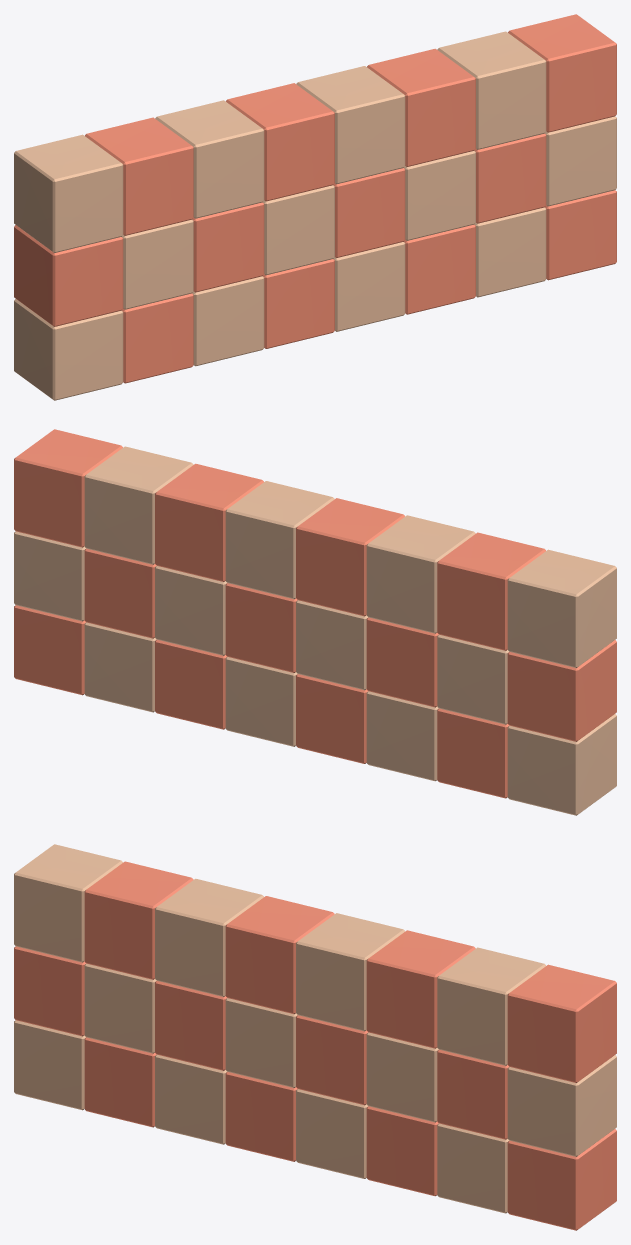
File: breakwall.fbx
3 views of the same model, one above another, from view 1: azimuth 30°, elevation 25°; view 2: azimuth 150°, elevation 25°; view 3: azimuth 330°, elevation 25° (orthographic).
Parts seen in each view (by area): view 1: break_wall, break_wall.008, break_wall.016, break_wall.002, break_wall.004, break_wall.007, break_wall.001, break_wall.003, break_wall.006, break_wall.005, break_wall.010, break_wall.018 (+12 smaller); view 2: break_wall, break_wall.008, break_wall.016, break_wall.002, break_wall.004, break_wall.007, break_wall.001, break_wall.003, break_wall.006, break_wall.005, break_wall.010, break_wall.018 (+12 smaller); view 3: break_wall.007, break_wall.015, break_wall.023, break_wall.005, break_wall, break_wall.003, break_wall.006, break_wall.001, break_wall.004, break_wall.002, break_wall.013, break_wall.021 (+12 smaller).
Part boxes in pixels (x1=…): break_wall: x1=14, y1=134, x2=123, y2=252; break_wall.008: x1=14, y1=225, x2=123, y2=326; break_wall.016: x1=14, y1=299, x2=123, y2=400; break_wall.002: x1=155, y1=100, x2=264, y2=218; break_wall.004: x1=296, y1=66, x2=405, y2=184; break_wall.007: x1=508, y1=14, x2=616, y2=132; break_wall.001: x1=85, y1=117, x2=193, y2=235; break_wall.003: x1=226, y1=83, x2=334, y2=201; break_wall.006: x1=437, y1=31, x2=546, y2=149; break_wall.005: x1=367, y1=48, x2=475, y2=166; break_wall.010: x1=192, y1=202, x2=264, y2=292; break_wall.018: x1=192, y1=276, x2=264, y2=366; break_wall: x1=507, y1=549, x2=616, y2=667; break_wall.008: x1=507, y1=640, x2=616, y2=741; break_wall.016: x1=507, y1=714, x2=616, y2=815; break_wall.002: x1=366, y1=515, x2=475, y2=633; break_wall.004: x1=225, y1=481, x2=334, y2=599; break_wall.007: x1=14, y1=429, x2=122, y2=547; break_wall.001: x1=437, y1=532, x2=545, y2=650; break_wall.003: x1=296, y1=498, x2=404, y2=616; break_wall.006: x1=84, y1=446, x2=193, y2=564; break_wall.005: x1=155, y1=463, x2=263, y2=581; break_wall.010: x1=366, y1=617, x2=438, y2=707; break_wall.018: x1=366, y1=691, x2=438, y2=781; break_wall.007: x1=507, y1=964, x2=616, y2=1082; break_wall.015: x1=507, y1=1055, x2=616, y2=1156; break_wall.023: x1=507, y1=1129, x2=616, y2=1230; break_wall.005: x1=366, y1=930, x2=475, y2=1048; break_wall: x1=14, y1=844, x2=122, y2=962; break_wall.003: x1=225, y1=896, x2=334, y2=1014; break_wall.006: x1=437, y1=947, x2=545, y2=1065; break_wall.001: x1=84, y1=861, x2=193, y2=979; break_wall.004: x1=296, y1=913, x2=404, y2=1031; break_wall.002: x1=155, y1=878, x2=263, y2=996; break_wall.013: x1=366, y1=1032, x2=438, y2=1122; break_wall.021: x1=366, y1=1106, x2=438, y2=1196.
Size of the model in its own units: 4 by 1.5 by 0.5.
